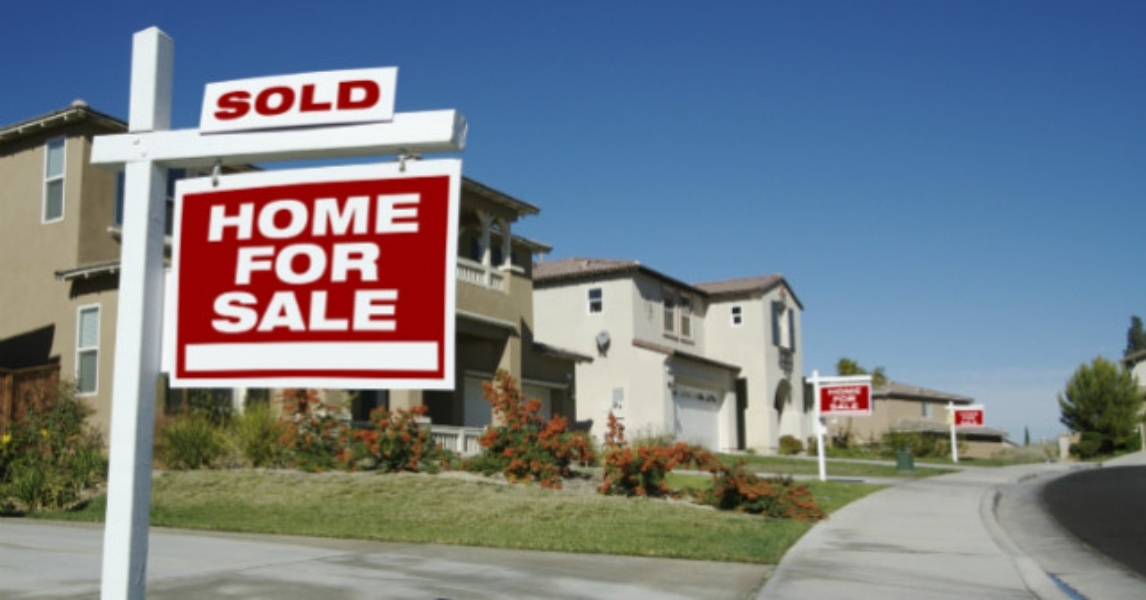text: (225, 189, 240, 244), (241, 189, 256, 244), (257, 189, 272, 244), (273, 189, 288, 244), (289, 189, 304, 244), (305, 189, 320, 244), (321, 189, 336, 244), (337, 189, 352, 244), (353, 189, 368, 244), (369, 189, 384, 244), (385, 189, 400, 244), (401, 189, 416, 244), (210, 189, 224, 244), (241, 237, 256, 287), (257, 237, 272, 287), (273, 237, 288, 287), (289, 237, 304, 287), (305, 237, 320, 287), (321, 237, 336, 287), (337, 237, 352, 287), (353, 237, 368, 287), (225, 285, 240, 335), (241, 285, 256, 335), (257, 285, 272, 335), (273, 285, 288, 335), (289, 285, 304, 335), (305, 285, 320, 335), (321, 285, 336, 335), (337, 285, 352, 335), (353, 285, 368, 335), (369, 285, 384, 335), (385, 285, 400, 335), (225, 78, 240, 124), (241, 78, 256, 124), (257, 78, 272, 124), (273, 78, 288, 124), (289, 78, 304, 124), (305, 78, 320, 124), (321, 78, 336, 124), (337, 78, 352, 124), (353, 78, 368, 124), (369, 237, 382, 287), (212, 285, 224, 335), (369, 78, 380, 124), (417, 189, 423, 244), (961, 411, 976, 429), (235, 237, 240, 287), (219, 78, 224, 124), (961, 407, 976, 418), (833, 400, 848, 411), (961, 418, 976, 429), (833, 386, 848, 396), (849, 386, 864, 396), (849, 387, 865, 396), (849, 400, 862, 411), (833, 387, 848, 396), (819, 386, 832, 396), (833, 395, 848, 403), (833, 395, 848, 402), (401, 285, 403, 335), (822, 387, 832, 396), (977, 411, 982, 429), (953, 407, 960, 418), (849, 395, 858, 403), (826, 400, 832, 411), (865, 386, 871, 396), (977, 407, 982, 418), (849, 395, 856, 402), (958, 411, 960, 429), (830, 395, 832, 403), (830, 395, 832, 402), (977, 418, 978, 429)
